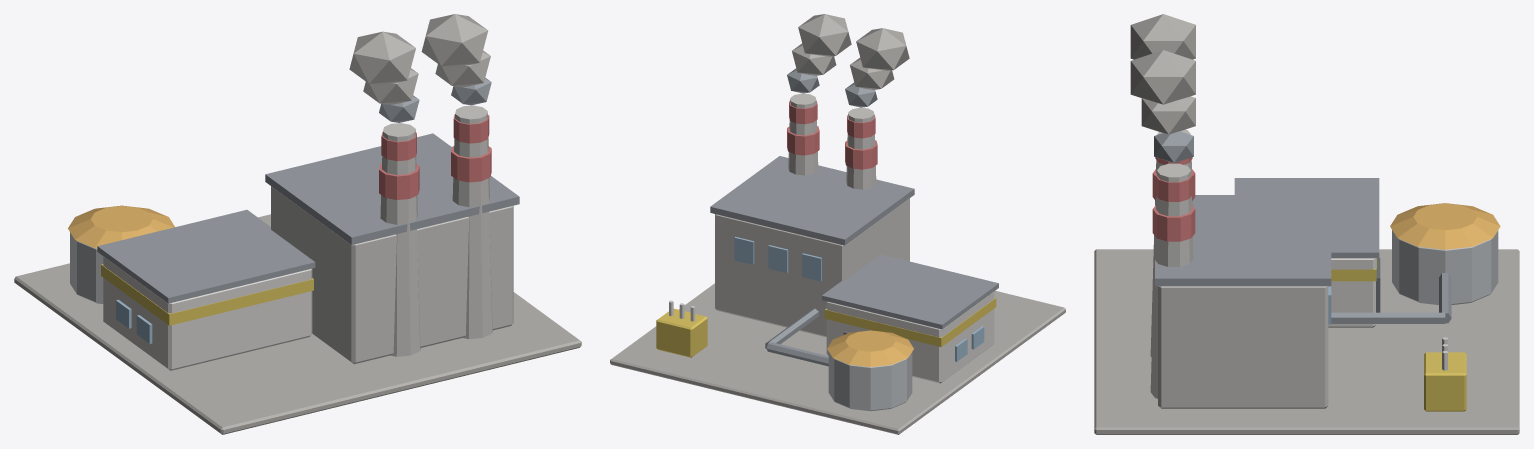
File: energia__termeletrica.glb
3 renders of one model, left to right at view 1: azimuth 30°, elevation 25°; view 2: azimuth 150°, elevation 25°; view 3: azimuth 270°, elevation 25°, orthographic. The views are drawn at different scales.
Visible parts, largest first — view 1: energia__termeletrica; view 2: energia__termeletrica; view 3: energia__termeletrica.
Boxes of the visible parts, bbox=[...] form: energia__termeletrica: bbox=[14, 14, 581, 434]; energia__termeletrica: bbox=[610, 14, 1065, 434]; energia__termeletrica: bbox=[1094, 14, 1519, 434].
Bounding box in the file's own units: 4 × 3.52 × 4.
